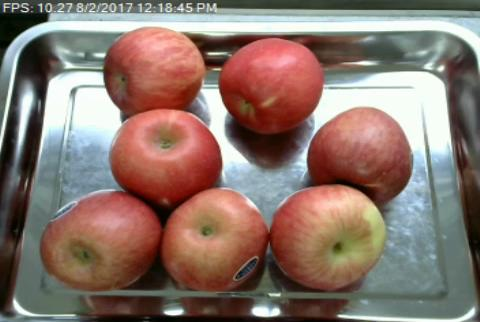apple: (39, 189, 161, 291), (270, 185, 387, 289), (162, 187, 266, 290), (109, 109, 222, 203), (218, 37, 324, 133), (102, 25, 203, 112), (306, 107, 413, 188)
